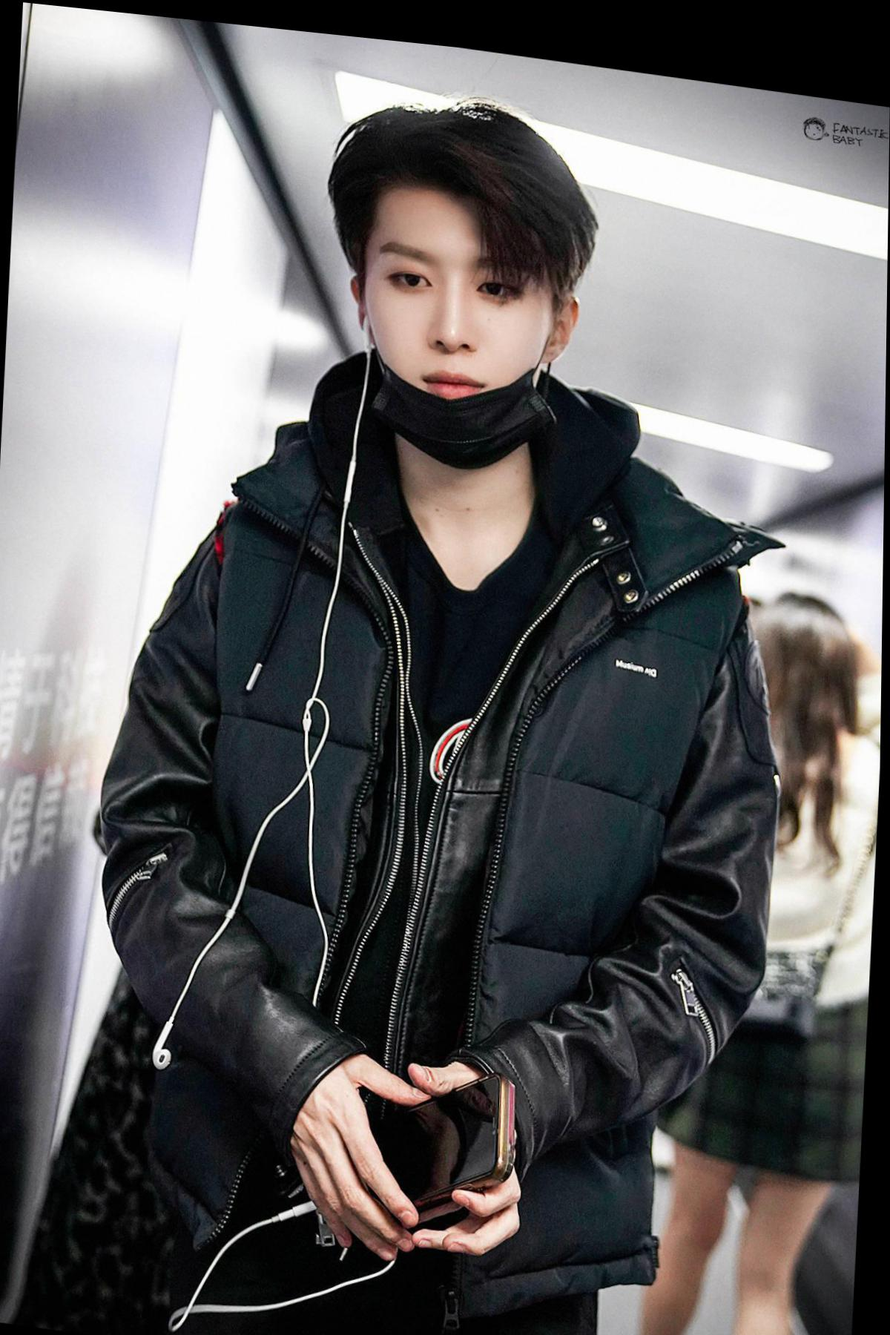WRONG: (360, 206, 553, 461)
